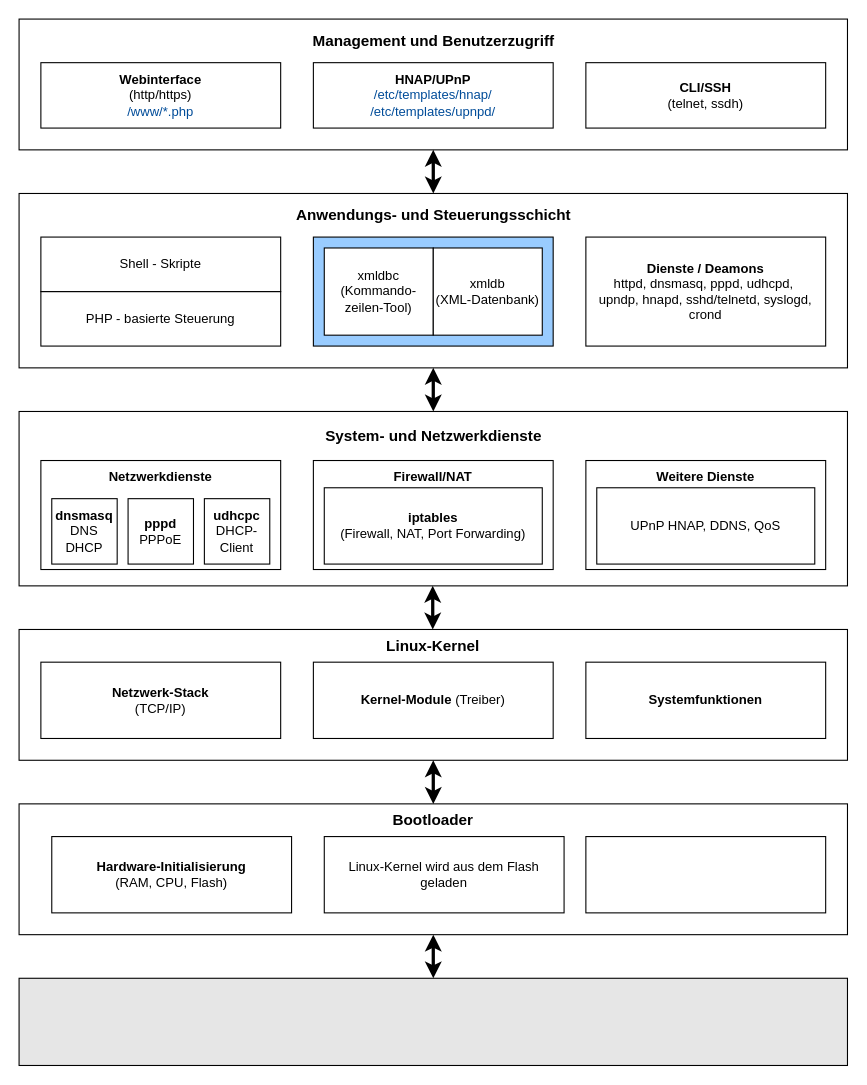
The diagram is 867 pixels wide and 1085 high, and some of its shapes have lost their labels. The centre of each missing label's shape, as x and y in pixels:
Hardware: point 432,1021
Übergabe von Bootparametern: point 705,874
